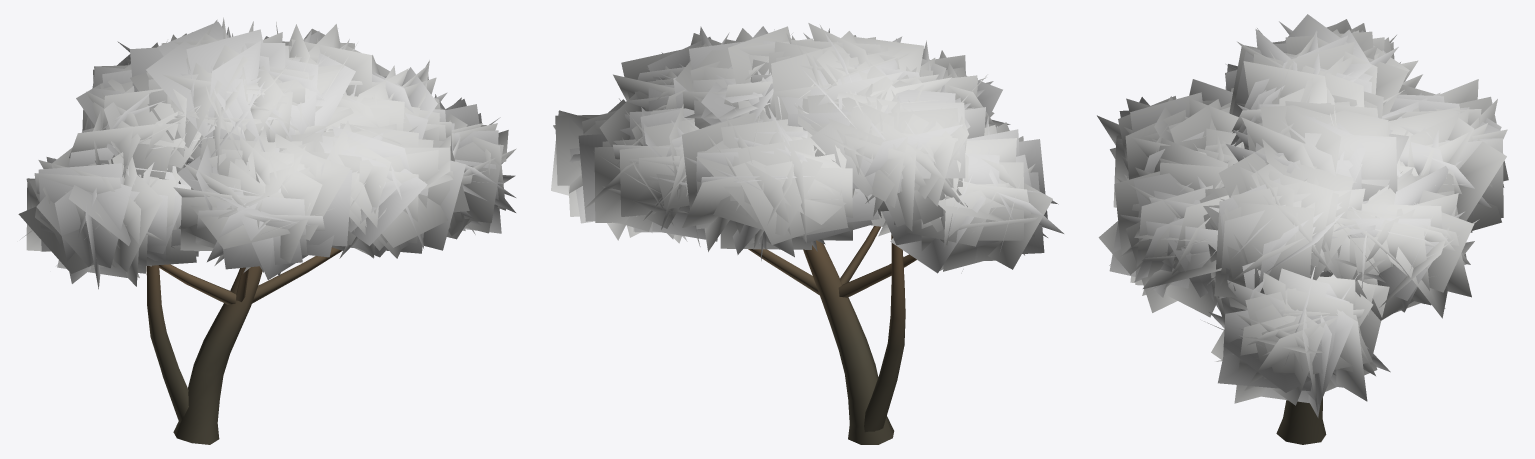
The picture shows the model from 3 angles, left to right: view 1: azimuth 30°, elevation 25°; view 2: azimuth 150°, elevation 25°; view 3: azimuth 270°, elevation 25°; orthographic projection. The views are drawn at different scales.
Visible parts, largest first — view 1: crown, trunk; view 2: crown, trunk; view 3: crown, trunk.
Part boxes in pixels (left/top/right/bottom): crown: left=18, top=17, right=516, bottom=289; trunk: left=146, top=247, right=341, bottom=444; crown: left=551, top=23, right=1063, bottom=273; trunk: left=748, top=226, right=916, bottom=444; crown: left=1097, top=14, right=1508, bottom=417; trunk: left=1276, top=398, right=1326, bottom=444.
Size of the model in its own units: 13.48 by 10.17 by 9.68.
